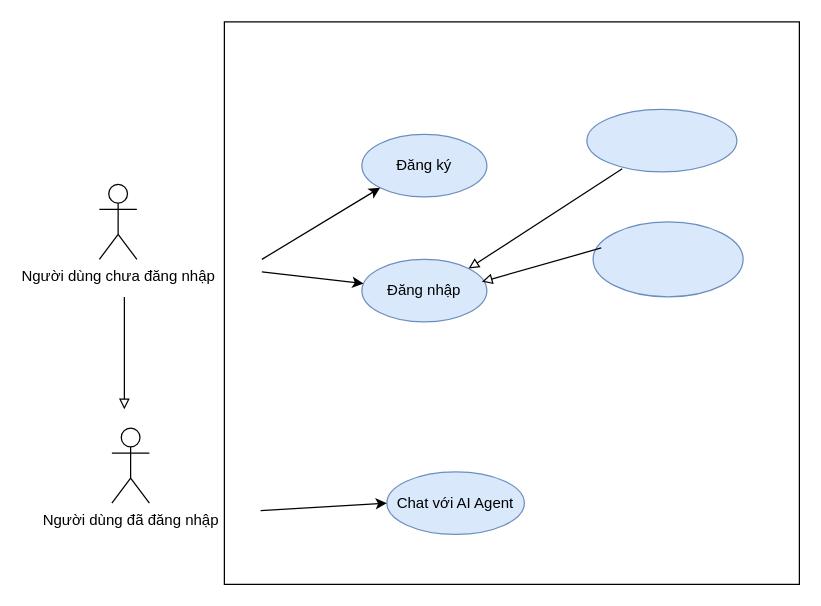
This 821x606 diagram has some shape labels left out. The centre of each missing label's shape, as x and y in pixels:
"Đăng nhập với email" belongs at point 667,259.
"Đăng nhập với Google" belongs at point 661,140.
